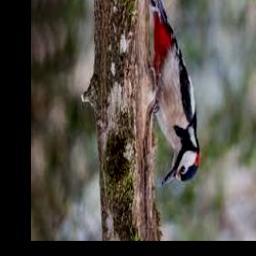Woodpecker: (147, 0, 200, 187)
